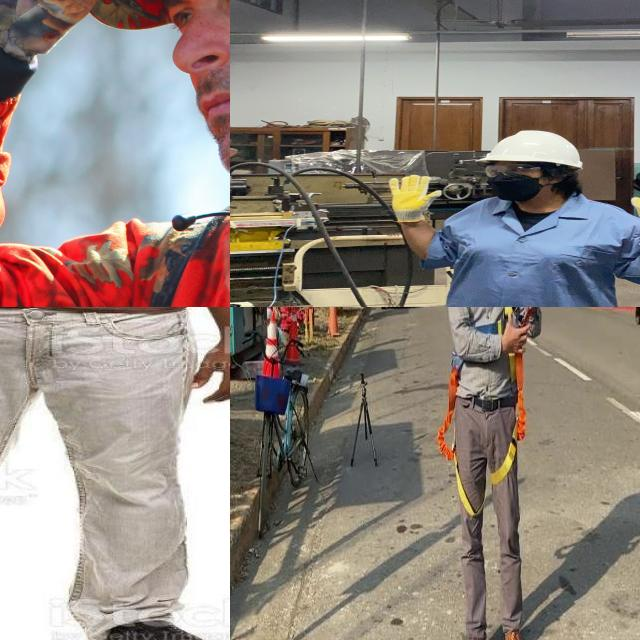Harness: (437, 366, 483, 518), (491, 354, 527, 486), (467, 307, 514, 334)
No_Glasses: (155, 0, 230, 47)
face_mask: (476, 162, 550, 204)
glasses: (478, 164, 552, 178)
hand_glove: (379, 173, 448, 220)
hand_noglove: (183, 319, 230, 411)
head_helmet: (471, 127, 591, 167)
person: (0, 307, 230, 640), (374, 129, 640, 307)
